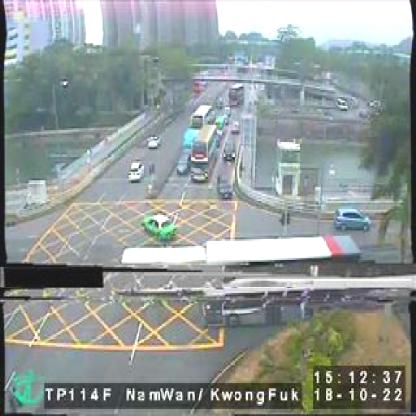Bus: (191, 124, 218, 183)
Car: (142, 214, 178, 244), (333, 206, 372, 232), (175, 149, 192, 176), (127, 160, 145, 182), (219, 173, 232, 199), (223, 140, 236, 163), (148, 132, 162, 150), (230, 120, 240, 135)
Minibus: (214, 114, 227, 135)
Truck: (191, 106, 213, 129), (227, 80, 245, 108)
